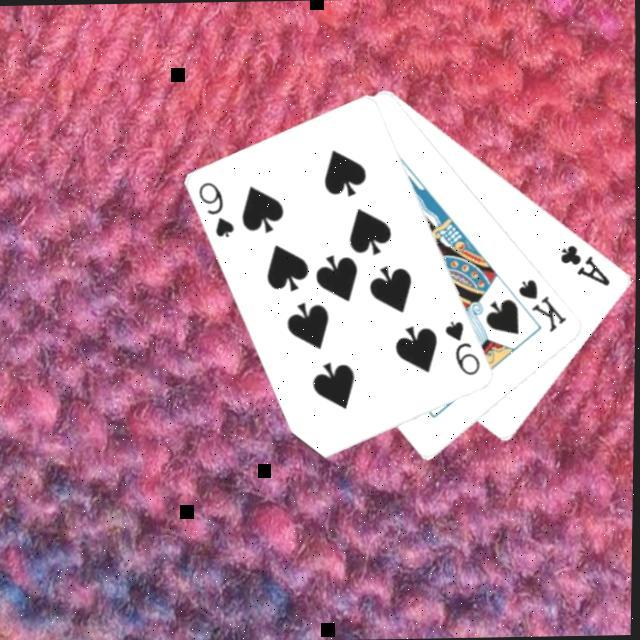9S: (194, 177, 238, 240), (441, 316, 485, 378)
AC: (556, 239, 614, 290)
KS: (514, 274, 571, 334)
